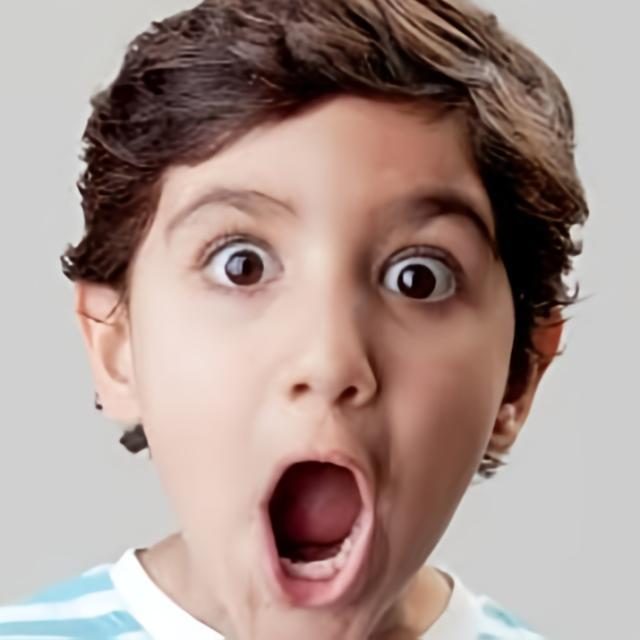surprise: (131, 61, 518, 633)
